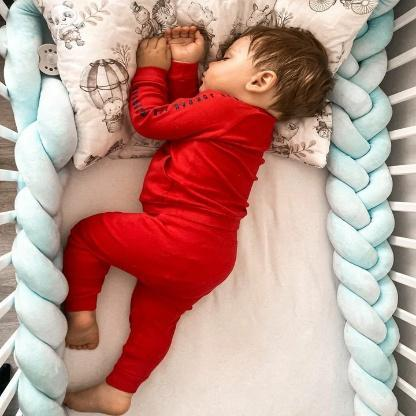baby: (61, 24, 330, 415)
